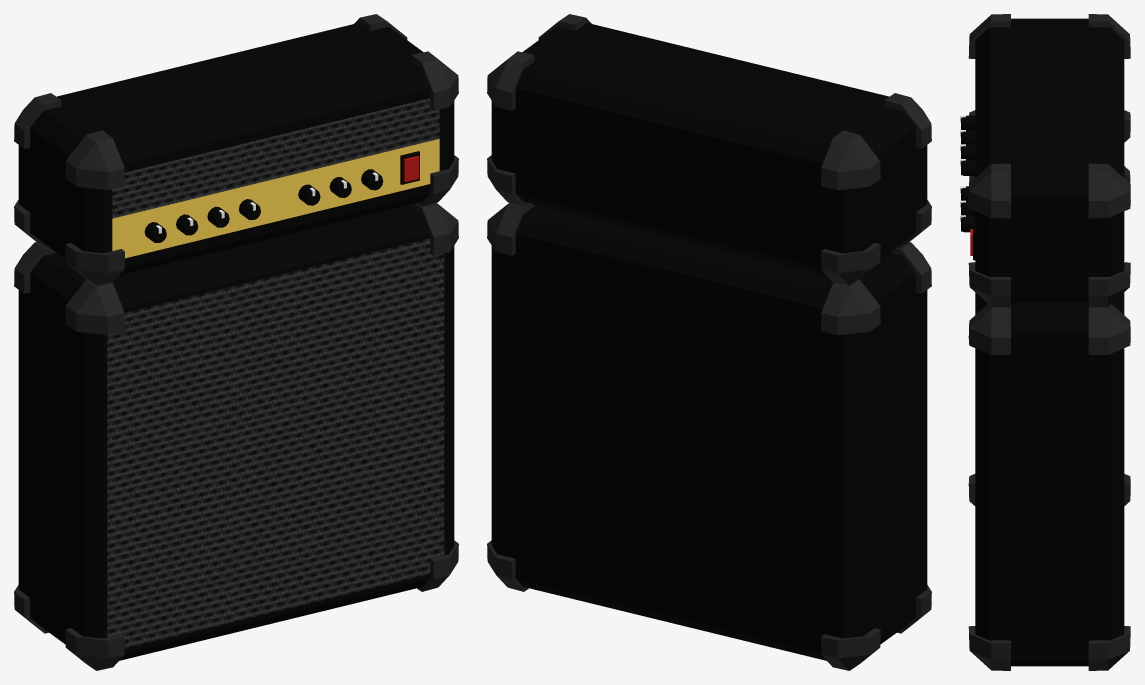
File: Amp.fbx
3 views of the same model, side by side, from view 1: azimuth 30°, elevation 25°; view 2: azimuth 150°, elevation 25°; view 3: azimuth 270°, elevation 25° (orthographic). The views are drawn at different scales.
Visible parts, largest first — view 1: Amp; view 2: Amp; view 3: Amp.
Part boxes in pixels (box(x1,y1,x2,y2)): Amp: box(14, 14, 458, 670); Amp: box(487, 14, 931, 670); Amp: box(960, 14, 1130, 670).
Bounding box in the file's own units: 1.11 × 1.47 × 0.4552.
Materials: 3 (3 with a texture image).
